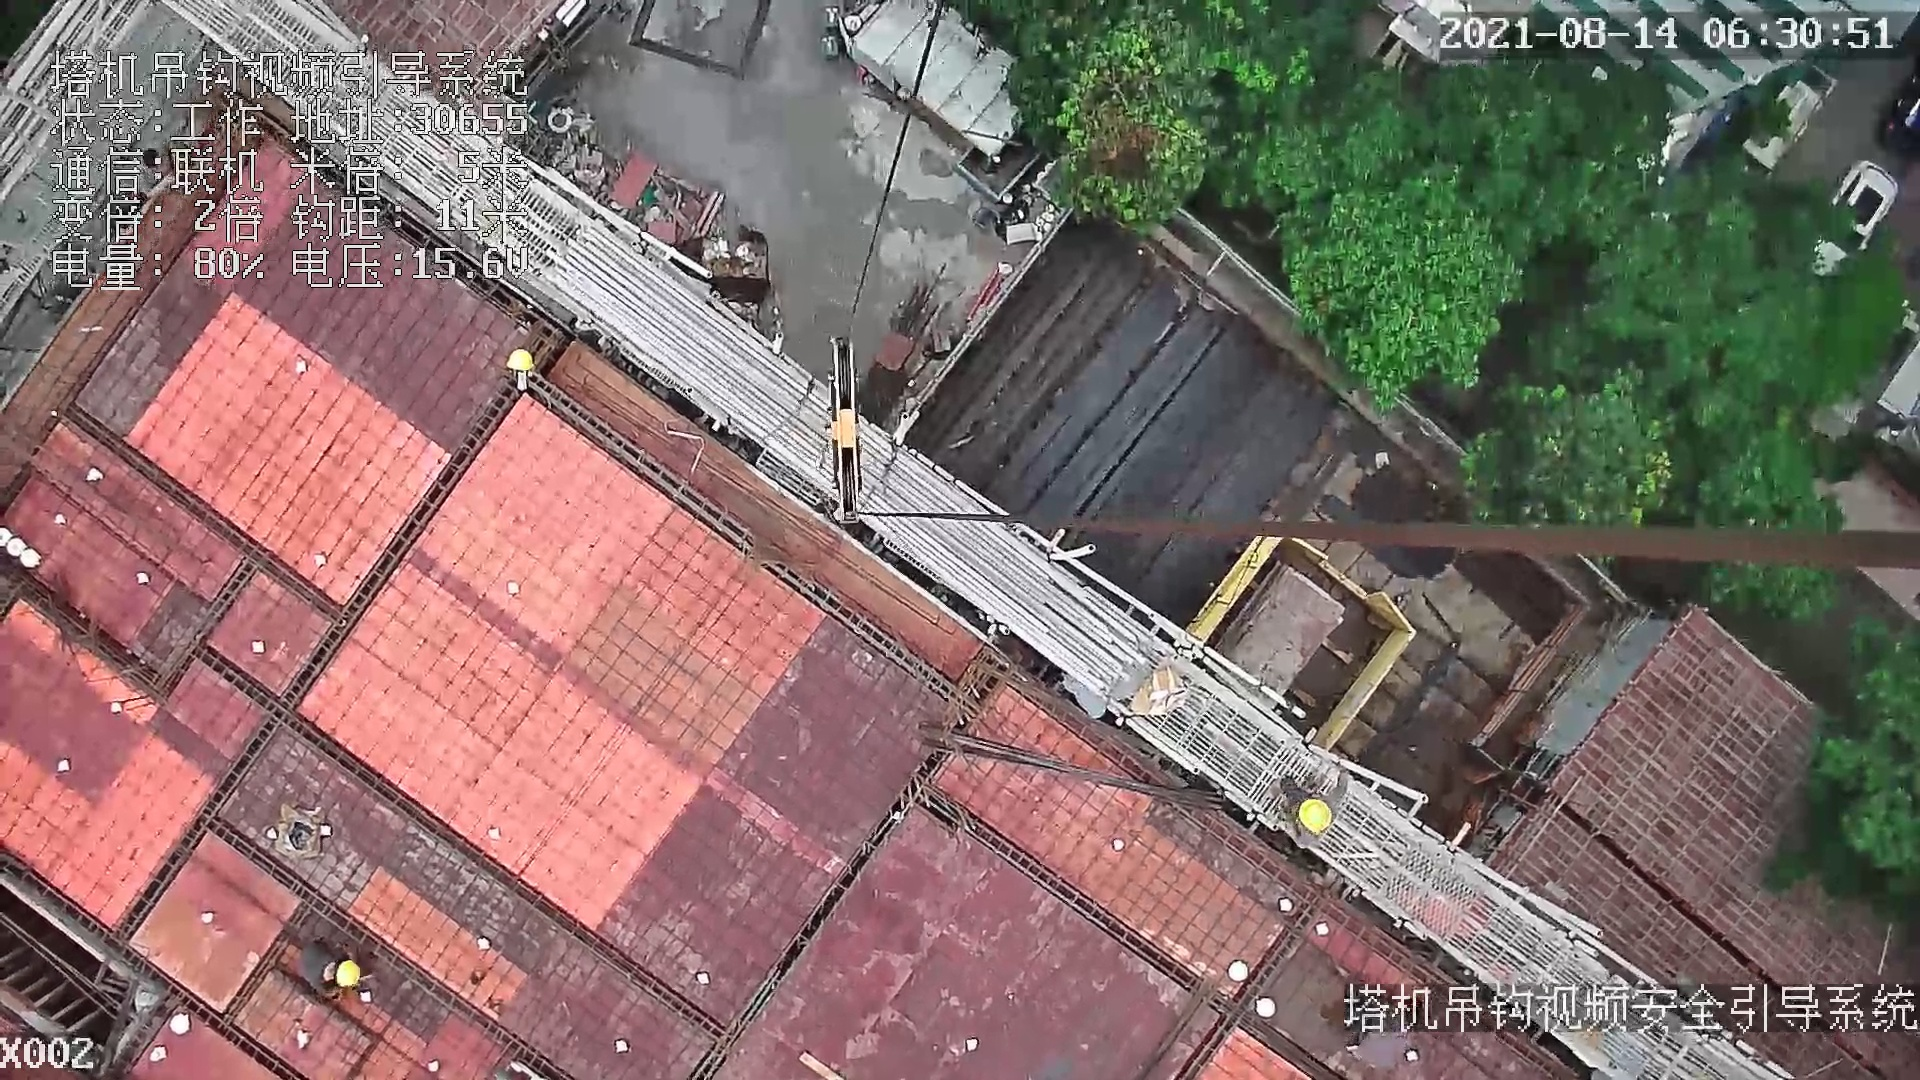helmet: (1297, 800, 1337, 837), (504, 348, 539, 371), (335, 958, 360, 988)
hook: (819, 336, 869, 522)
person: (1272, 774, 1353, 840), (292, 931, 368, 997)
rebar: (909, 217, 1323, 604)
